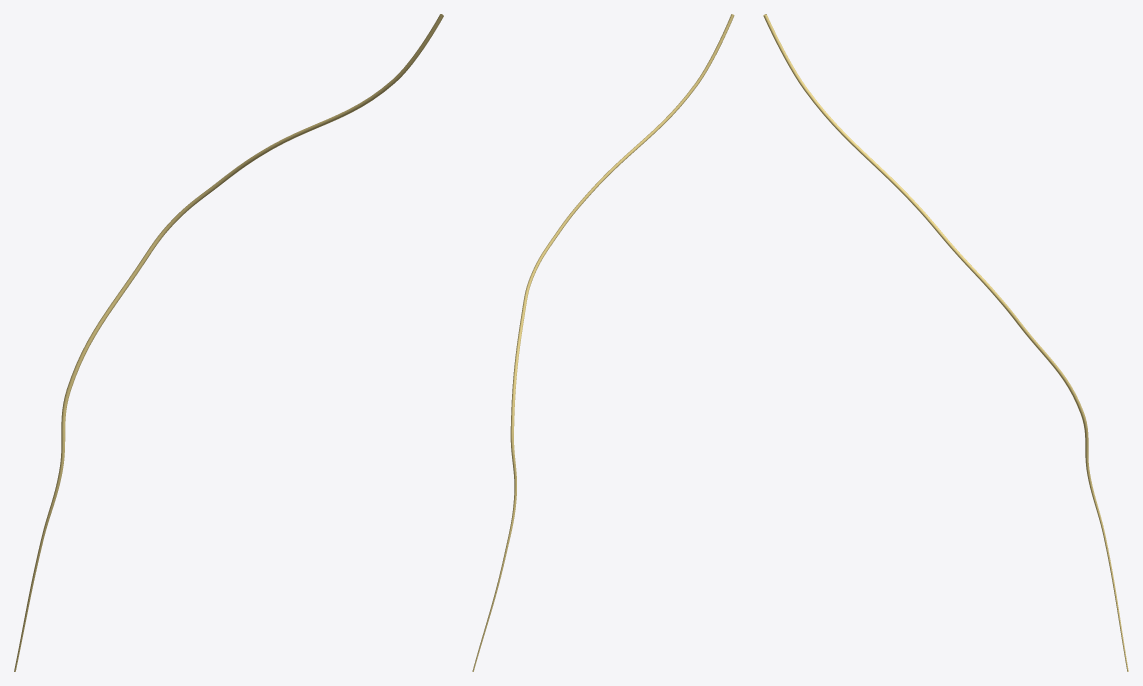
The picture shows the model from 3 angles, left to right: view 1: azimuth 90°, elevation 25°; view 2: azimuth 150°, elevation 25°; view 3: azimuth 270°, elevation 25°; orthographic projection. The views are drawn at different scales.
Visible parts, largest first — view 1: ZA_b1041bdfdfd8a3ef; view 2: ZA_b1041bdfdfd8a3ef; view 3: ZA_b1041bdfdfd8a3ef.
Part boxes in pixels (bbox=[...]): ZA_b1041bdfdfd8a3ef: bbox=[14, 14, 443, 671]; ZA_b1041bdfdfd8a3ef: bbox=[472, 14, 734, 671]; ZA_b1041bdfdfd8a3ef: bbox=[763, 14, 1128, 671].
Size of the model in its own units: 0.0332 by 0.1789 by 0.0974.
